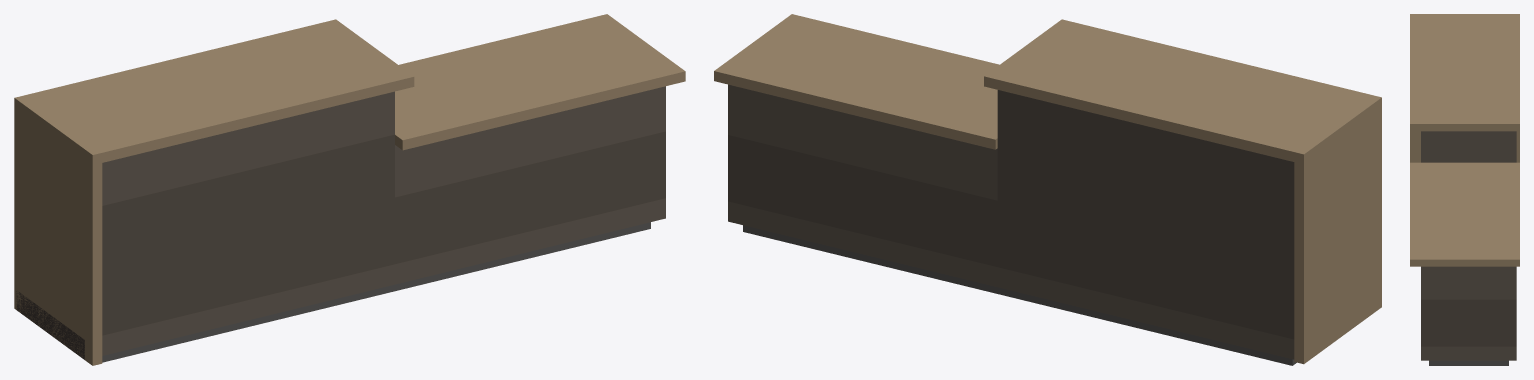
Rendered from SM_Props_Interior_Shop_Counter_04.fbx.
3 renders of one model, left to right at view 1: azimuth 30°, elevation 25°; view 2: azimuth 150°, elevation 25°; view 3: azimuth 270°, elevation 25°, orthographic. The views are drawn at different scales.
Visible parts, largest first — view 1: SM_Props_Interior_Shop_Counter_04; view 2: SM_Props_Interior_Shop_Counter_04; view 3: SM_Props_Interior_Shop_Counter_04.
Boxes of the visible parts, x1,y1,x2,y2 form: SM_Props_Interior_Shop_Counter_04: [14, 14, 685, 365]; SM_Props_Interior_Shop_Counter_04: [714, 14, 1381, 365]; SM_Props_Interior_Shop_Counter_04: [1410, 14, 1519, 365].
Bounding box in the file's own units: 306 × 110 × 70.
